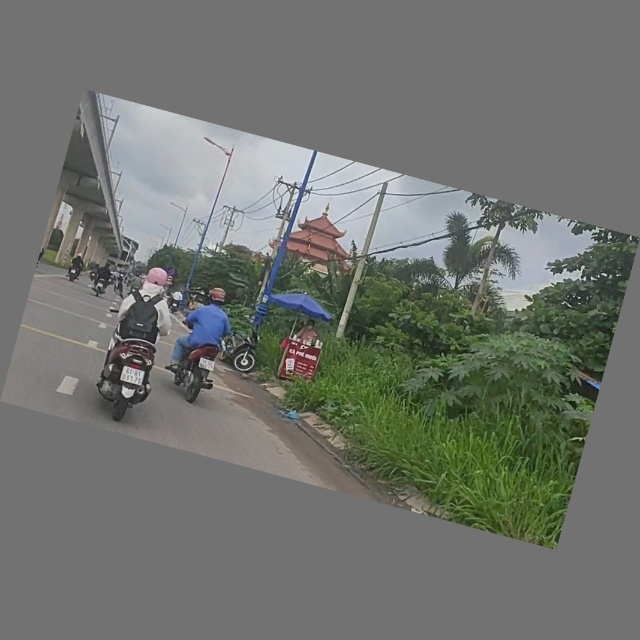B.8a: (166, 275, 174, 283)
P.130: (168, 268, 176, 276)
